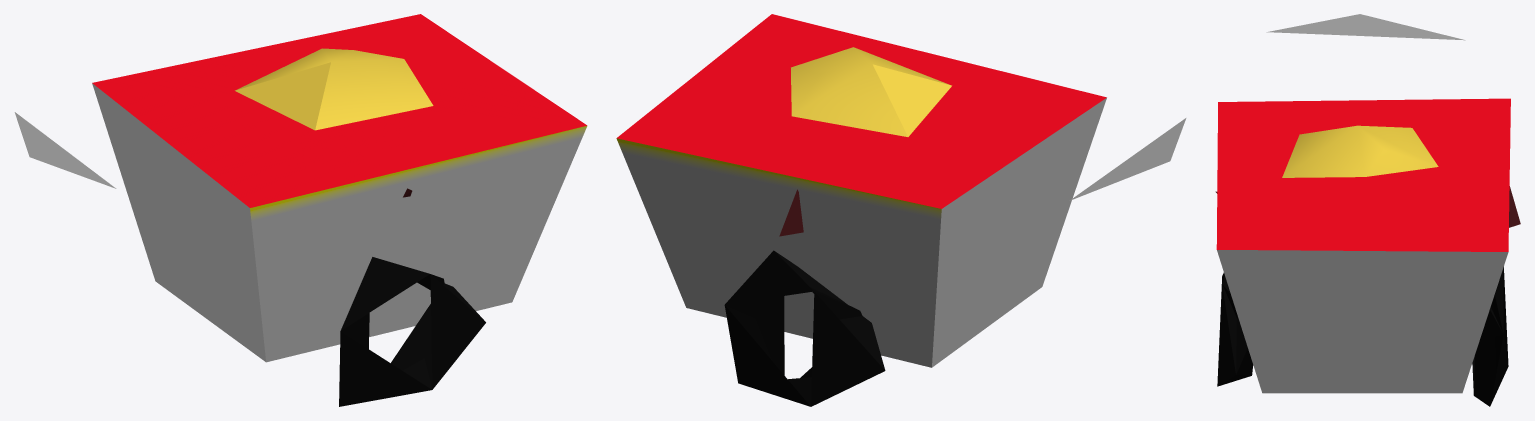
Rendered from CarrinhoSorveteLOD2.fbx.
3 renders of one model, left to right at view 1: azimuth 30°, elevation 25°; view 2: azimuth 150°, elevation 25°; view 3: azimuth 270°, elevation 25°, orthographic. The views are drawn at different scales.
Parts seen in each view (by area): view 1: CarrinhoSorveteLOD2; view 2: CarrinhoSorveteLOD2; view 3: CarrinhoSorveteLOD2.
Part boxes in pixels (x1,y1,x2,y2): CarrinhoSorveteLOD2: (14, 14, 587, 406); CarrinhoSorveteLOD2: (616, 14, 1186, 406); CarrinhoSorveteLOD2: (1215, 14, 1520, 406).
Size of the model in its own units: 80.93 by 46.39 by 49.49.
